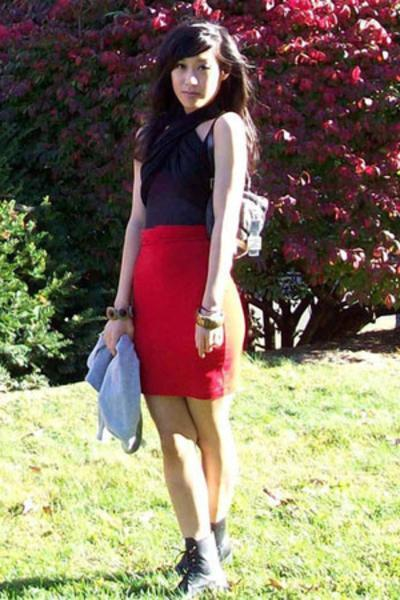shirt: (140, 121, 214, 237)
shoe: (157, 509, 229, 599)
skirt: (119, 225, 231, 416)
